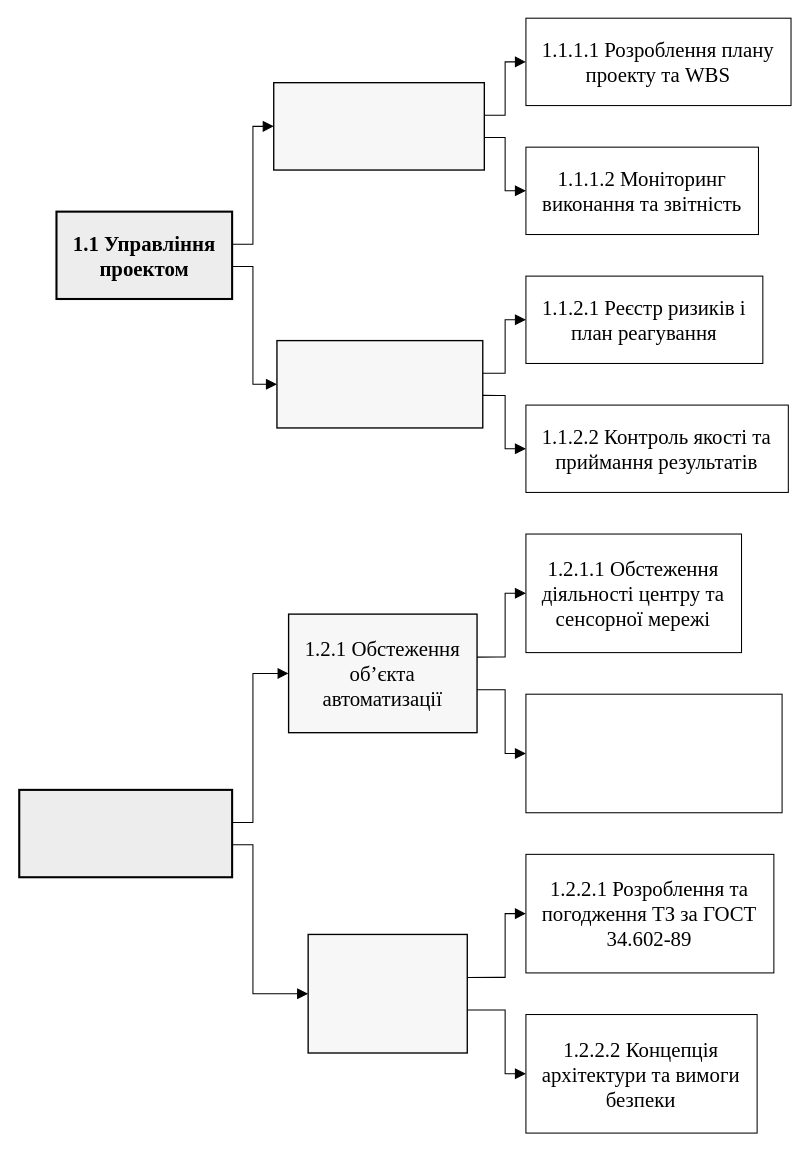
Some shapes in this 809 by 1151 pixel diagram are drawn without their labels. The shapes that lost their labels are listed below. From the top down, each one's centre as x and y in pixels, then its label:
At (379,126): "1.1.1 Планування та контроль".
At (379,383): "1.1.2 Управління ризиками та якістю".
At (653,753): "1.2.1.2 Моделювання бізнес-процесів «як є» та «як має бути»".
At (125,833): "1.2 Обстеження та формування вимог".
At (387,993): "1.2.2 Технічне завдання та концепція".
